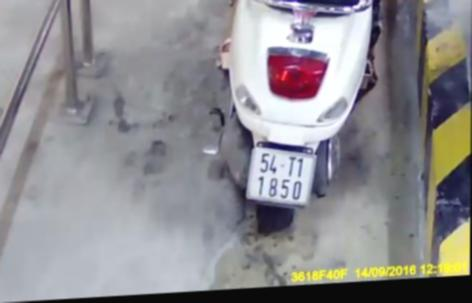License_Plate: (239, 138, 325, 216)
